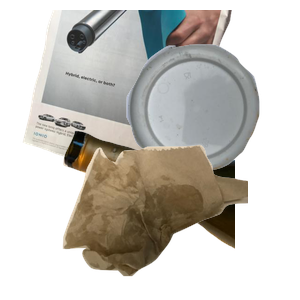glass: (60, 128, 300, 300)
paper: (20, 10, 244, 190)
plastic: (124, 42, 300, 210)
trash: (60, 142, 300, 300)
